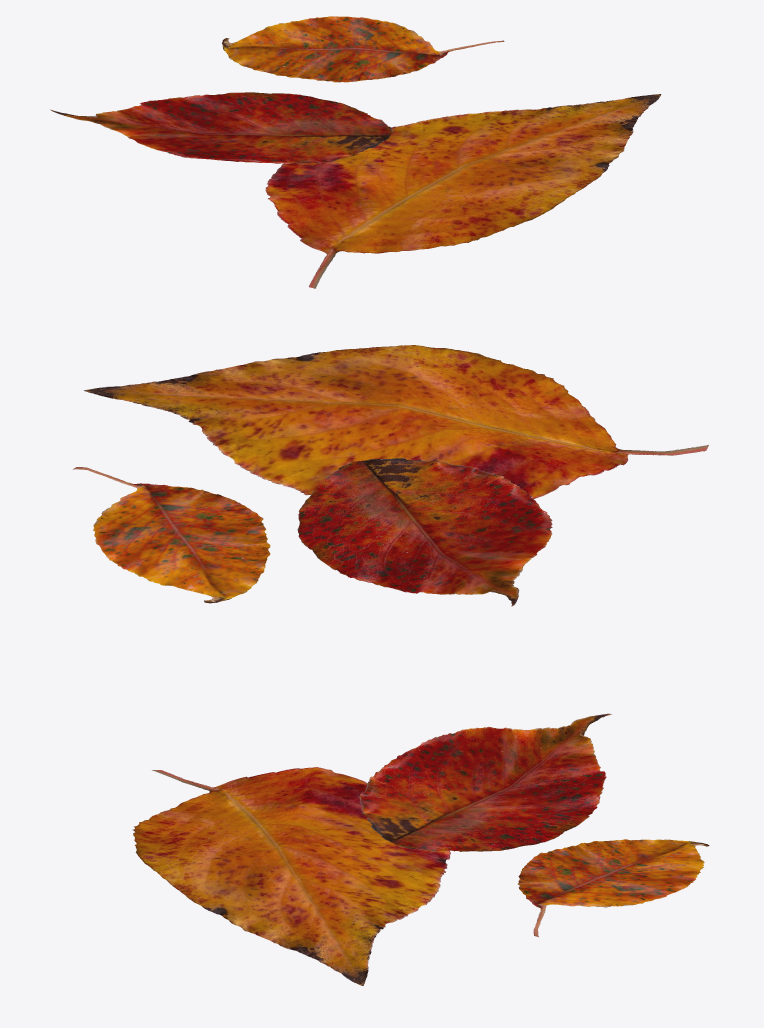
Rendered from LeavesPileSmall0.fbx.
3 renders of one model, top to bottom at view 1: azimuth 30°, elevation 25°; view 2: azimuth 150°, elevation 25°; view 3: azimuth 270°, elevation 25°, orthographic. The views are drawn at different scales.
Visible parts, largest first — view 1: Plane.019; view 2: Plane.019; view 3: Plane.019.
Boxes of the visible parts, <box> form: Plane.019: <box>50,16,661,288</box>; Plane.019: <box>73,345,708,606</box>; Plane.019: <box>132,713,709,985</box>.
Bounding box in the file's own units: 103 × 6.14 × 105.
